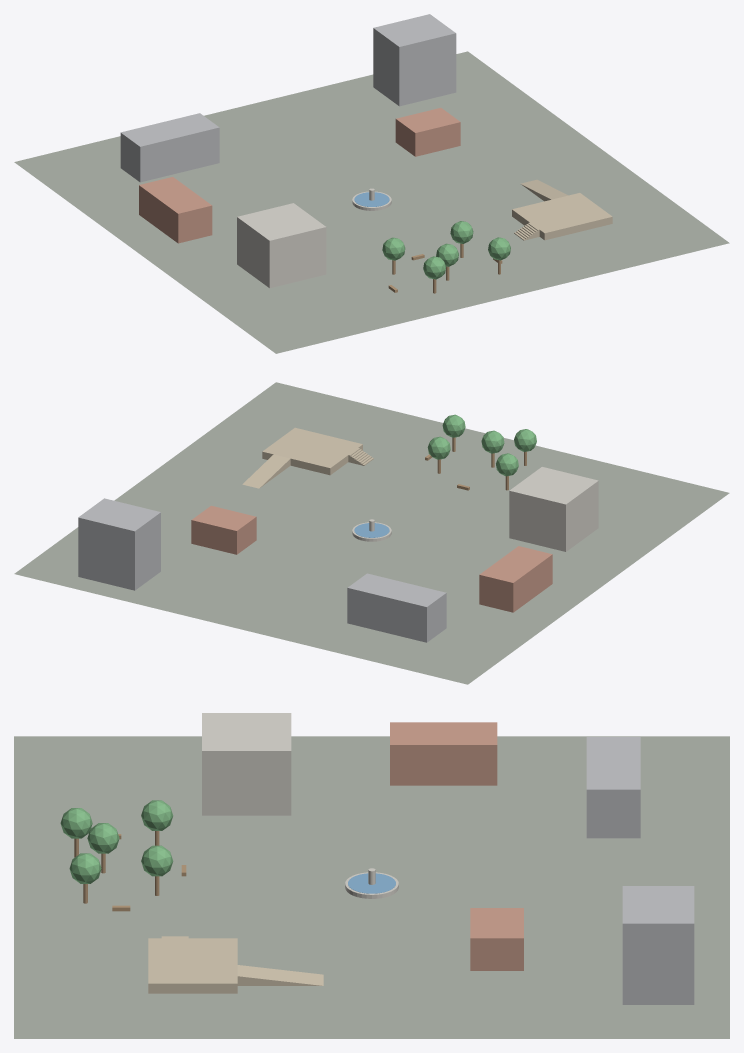
The model's file is test_city.glb.
The picture shows the model from 3 angles, top to bottom: view 1: azimuth 30°, elevation 25°; view 2: azimuth 150°, elevation 25°; view 3: azimuth 270°, elevation 25°; orthographic projection. The views are drawn at different scales.
Parts seen in each view (by area): view 1: ground, block_a, library, station, block_b, deck, cafe; view 2: ground, block_a, library, station, block_b, deck, cafe, deck_ramp; view 3: ground, library, block_a, block_b, station, deck, cafe, deck_ramp, tree_crown_2, tree_crown_0, tree_crown_4, tree_crown_1 (+2 smaller).
Part boxes in pixels (<box>): ground: <box>14,51,729,353</box>; block_a: <box>373,14,456,106</box>; library: <box>237,203,326,288</box>; station: <box>120,113,219,182</box>; block_b: <box>139,177,212,243</box>; deck: <box>512,193,612,240</box>; cafe: <box>395,108,460,156</box>; ground: <box>14,382,729,684</box>; block_a: <box>78,498,160,590</box>; library: <box>509,467,598,551</box>; station: <box>347,573,446,642</box>; block_b: <box>479,546,552,612</box>; deck: <box>262,427,362,475</box>; cafe: <box>191,505,256,554</box>; deck_ramp: <box>242,454,290,488</box>; ground: <box>14,736,729,1038</box>; library: <box>202,713,291,815</box>; block_a: <box>622,886,694,1004</box>; block_b: <box>390,722,497,785</box>; station: <box>586,737,640,838</box>; deck: <box>148,938,237,993</box>; cafe: <box>470,908,523,970</box>; deck_ramp: <box>237,965,323,985</box>; tree_crown_2: <box>141,845,173,876</box>; tree_crown_0: <box>141,800,173,830</box>; tree_crown_4: <box>69,853,101,883</box>; tree_crown_1: <box>87,823,119,853</box>.
Bounding box in the file's own units: 80 × 10 × 80.
